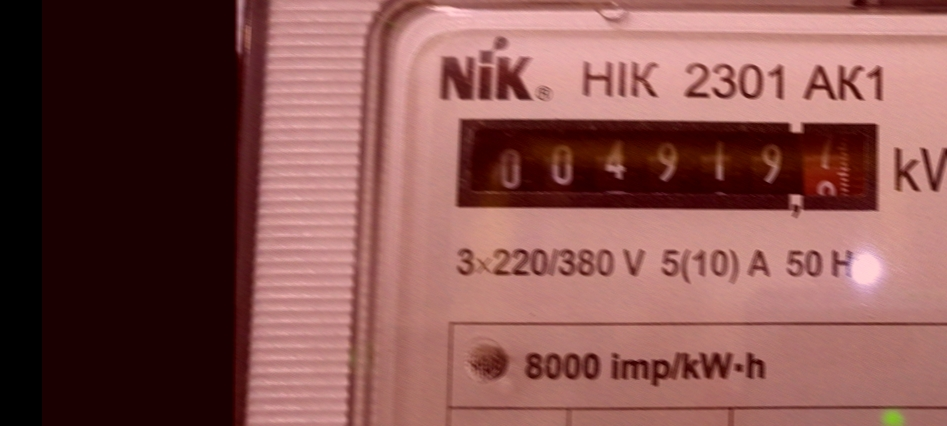0: (549, 142, 575, 187), (498, 146, 522, 190)
1: (711, 138, 727, 184)
4: (602, 137, 626, 181)
7: (813, 132, 836, 172)
9: (759, 141, 783, 187), (655, 141, 679, 185)
screen: (445, 106, 895, 229)
